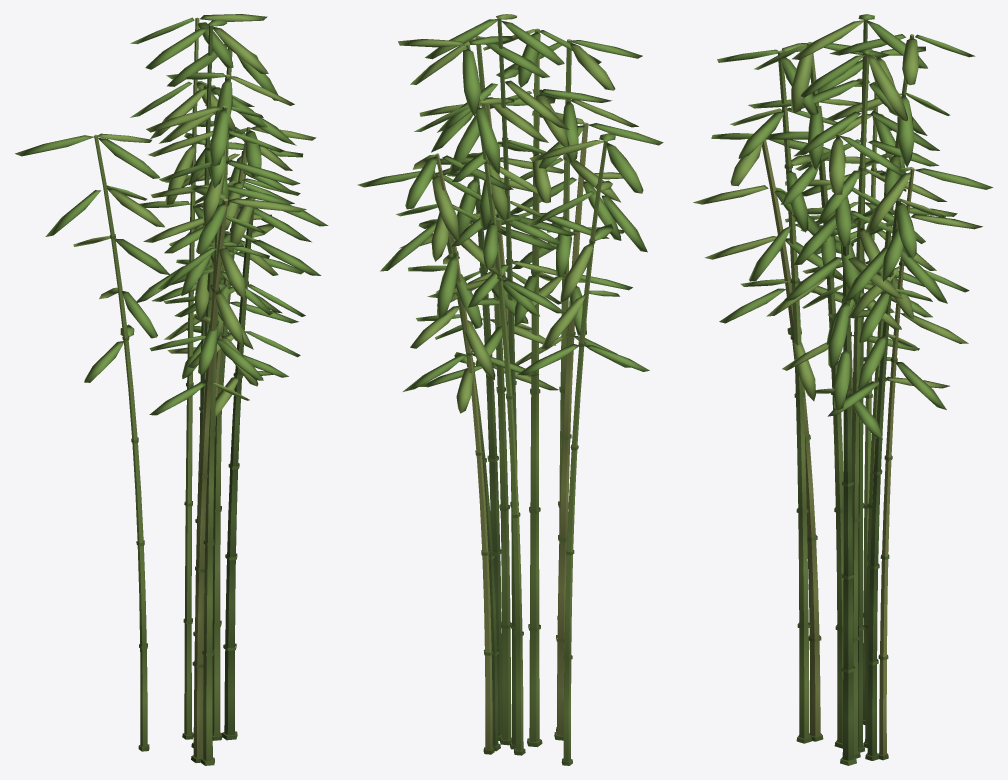
Rendered from bamboo_tall.glb.
The picture shows the model from 3 angles, left to right: view 1: azimuth 30°, elevation 25°; view 2: azimuth 150°, elevation 25°; view 3: azimuth 270°, elevation 25°; orthographic projection. The views are drawn at different scales.
Parts seen in each view (by area): view 1: leaves, stalks; view 2: leaves, stalks; view 3: leaves, stalks.
Part boxes in pixels (x1,y1,x2,y2): leaves: [15, 14, 328, 417]; stalks: [94, 17, 254, 765]; leaves: [357, 14, 663, 413]; stalks: [432, 17, 607, 765]; leaves: [693, 14, 993, 439]; stalks: [762, 18, 914, 765].
Size of what is drawn, in the model's own units: 4.83 by 11.54 by 4.27.
